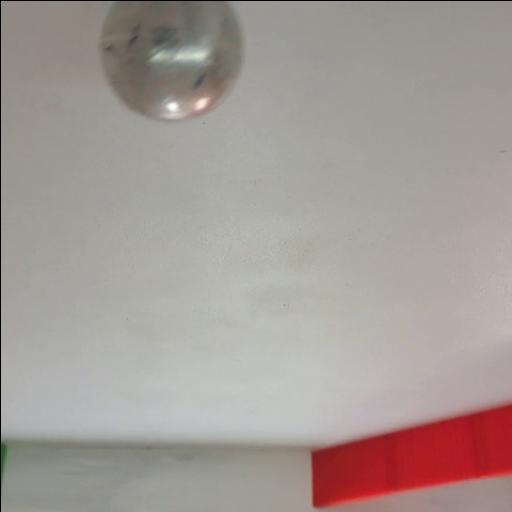alive: (97, 0, 247, 124)
